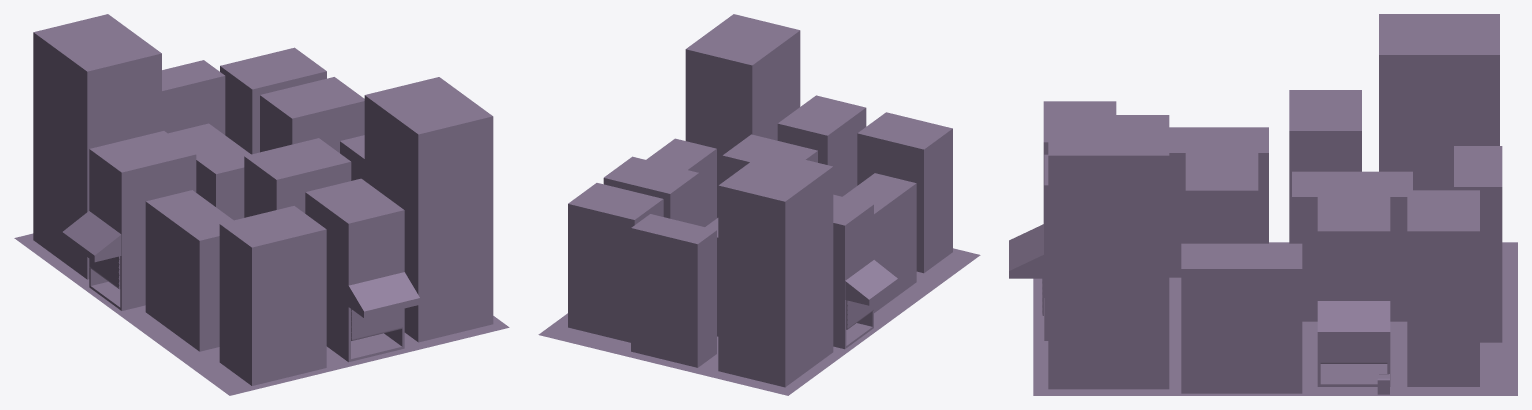
The model's file is slums_1mod.fbx.
3 renders of one model, left to right at view 1: azimuth 30°, elevation 25°; view 2: azimuth 150°, elevation 25°; view 3: azimuth 270°, elevation 25°, orthographic. The views are drawn at different scales.
Visible parts, largest first — view 1: slums_1mod_small_building1; view 2: slums_1mod_small_building1; view 3: slums_1mod_small_building1.
Boxes of the visible parts, x1=… form: slums_1mod_small_building1: x1=14, y1=14, x2=509, y2=395; slums_1mod_small_building1: x1=538, y1=14, x2=980, y2=395; slums_1mod_small_building1: x1=1009, y1=14, x2=1517, y2=395.
Size of the model in its own units: 33.4 by 21.39 by 42.
